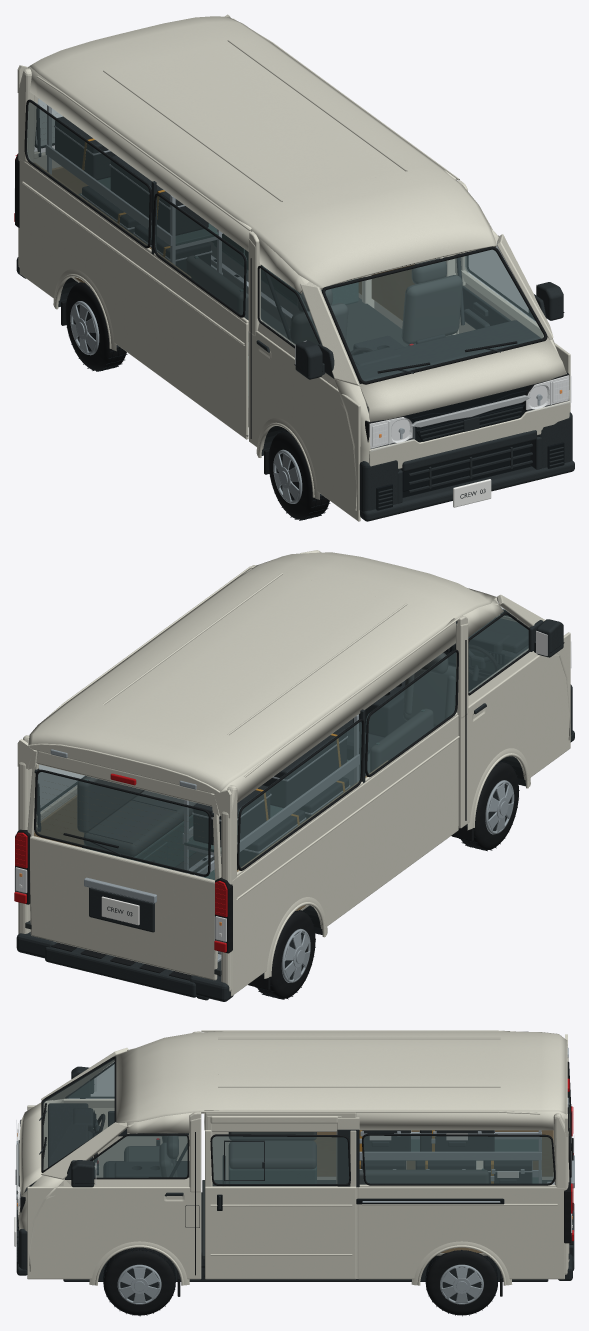
The model's file is location_van.glb.
The picture shows the model from 3 angles, top to bottom: view 1: azimuth 30°, elevation 25°; view 2: azimuth 150°, elevation 25°; view 3: azimuth 270°, elevation 25°; orthographic projection. The views are drawn at different scales.
Visible parts, largest first — view 1: ASSEMBLY_LOCATION_VAN_ROOT, ASSEMBLY_CREW_CONVERSION_ROOT, ASSEMBLY_DRIVER_DOOR_PIVOT, ASSEMBLY_PASSENGER_DOOR_PIVOT, ASSEMBLY_WHEEL_front_1, ASSEMBLY_WHEEL_rear_1, ASSEMBLY_SLIDING_DOOR_ROOT, ASSEMBLY_REAR_HATCH_PIVOT; view 2: ASSEMBLY_LOCATION_VAN_ROOT, ASSEMBLY_REAR_HATCH_PIVOT, ASSEMBLY_CREW_CONVERSION_ROOT, ASSEMBLY_DRIVER_DOOR_PIVOT, ASSEMBLY_WHEEL_front_1, ASSEMBLY_WHEEL_rear_1; view 3: ASSEMBLY_LOCATION_VAN_ROOT, ASSEMBLY_SLIDING_DOOR_ROOT, ASSEMBLY_CREW_CONVERSION_ROOT, ASSEMBLY_PASSENGER_DOOR_PIVOT, ASSEMBLY_WHEEL_front_-1, ASSEMBLY_WHEEL_rear_-1, ASSEMBLY_DRIVER_DOOR_PIVOT, ASSEMBLY_REAR_HATCH_PIVOT.
Part boxes in pixels (<box>): ASSEMBLY_LOCATION_VAN_ROOT: <box>14,14,574,521</box>; ASSEMBLY_CREW_CONVERSION_ROOT: <box>34,105,361,396</box>; ASSEMBLY_DRIVER_DOOR_PIVOT: <box>250,258,334,438</box>; ASSEMBLY_PASSENGER_DOOR_PIVOT: <box>462,235,564,329</box>; ASSEMBLY_WHEEL_front_1: <box>268,430,330,520</box>; ASSEMBLY_WHEEL_rear_1: <box>65,282,127,371</box>; ASSEMBLY_SLIDING_DOOR_ROOT: <box>371,179,458,333</box>; ASSEMBLY_REAR_HATCH_PIVOT: <box>34,96,87,193</box>; ASSEMBLY_LOCATION_VAN_ROOT: <box>14,550,574,1001</box>; ASSEMBLY_REAR_HATCH_PIVOT: <box>27,750,221,980</box>; ASSEMBLY_CREW_CONVERSION_ROOT: <box>34,709,433,962</box>; ASSEMBLY_DRIVER_DOOR_PIVOT: <box>465,612,564,820</box>; ASSEMBLY_WHEEL_front_1: <box>459,761,519,851</box>; ASSEMBLY_WHEEL_rear_1: <box>255,910,315,999</box>; ASSEMBLY_LOCATION_VAN_ROOT: <box>14,1030,574,1296</box>; ASSEMBLY_SLIDING_DOOR_ROOT: <box>205,1112,356,1279</box>; ASSEMBLY_CREW_CONVERSION_ROOT: <box>223,1130,554,1255</box>; ASSEMBLY_PASSENGER_DOOR_PIVOT: <box>64,1132,195,1275</box>; ASSEMBLY_WHEEL_front_-1: <box>103,1247,175,1316</box>; ASSEMBLY_WHEEL_rear_-1: <box>425,1250,497,1316</box>; ASSEMBLY_DRIVER_DOOR_PIVOT: <box>65,1062,188,1136</box>; ASSEMBLY_REAR_HATCH_PIVOT: <box>567,1045,574,1261</box>.
Bounding box in the file's own units: 2.26 × 2.29 × 5.41.
19 materials, 8 textured.
